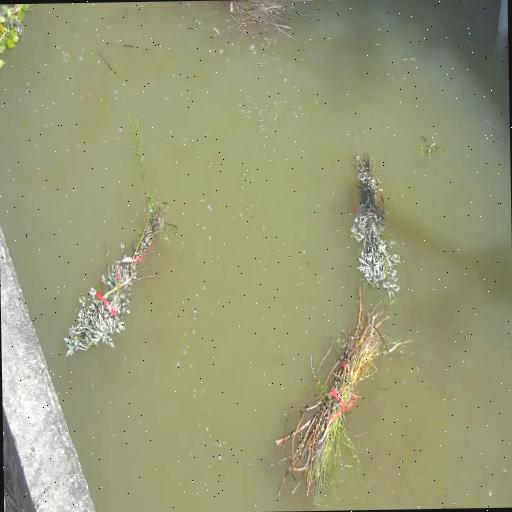twig: (276, 287, 396, 495), (65, 208, 164, 354), (350, 152, 401, 299), (0, 4, 33, 54)
